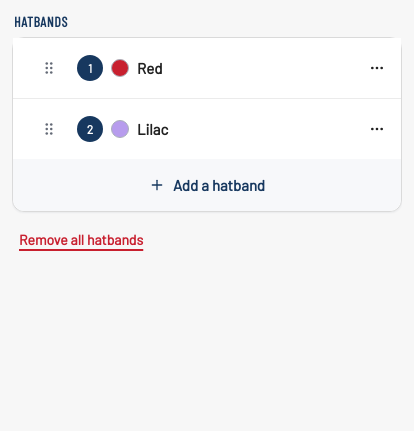
Scenario: HatbandEditor › changes a colour from the ⋯ menu: name and colour save as they are typed, and a custom colour keeps its name
This screenshot has width=414, height=431.
Step 1. Click the button named "More for Lilac" → (377, 129), box [369, 121, 385, 137]
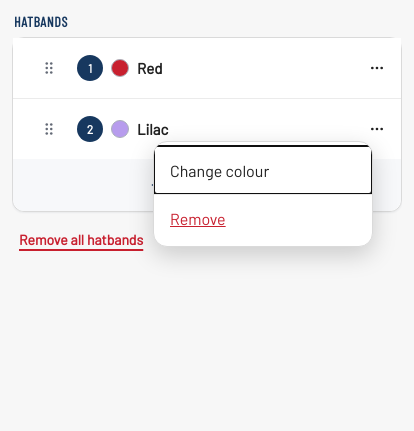
Step 2. Click the menu item "Change colour" → (263, 170), box [154, 146, 372, 194]
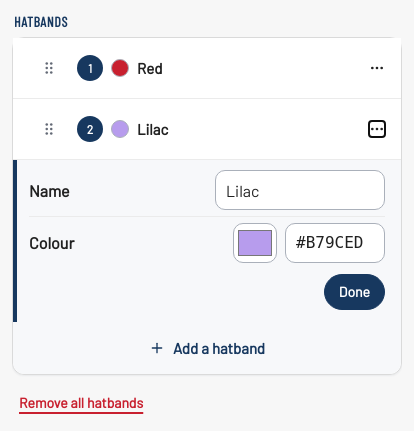
Check: the field named "Hatband name" holds "Lilac"
Check: the field named "Colour code" holds "#B79CED", box [285, 223, 385, 263]
Step 3. Type "s" into the field named "Hatband name" → (300, 190), box [215, 170, 385, 210]
Step 4. Replace the text in the field named "Colour code" with "#00FF00" → (335, 243), box [285, 223, 385, 263]
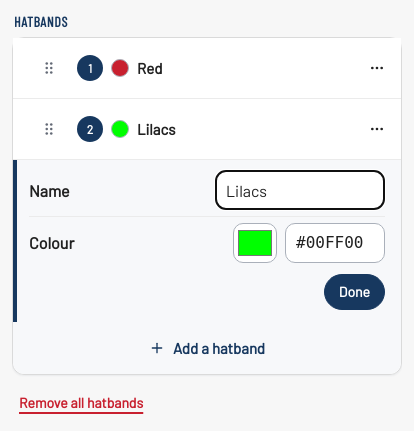
Step 5. Replace the text in the field named "Colour code" with "#00FF" → (335, 243), box [285, 223, 385, 263]
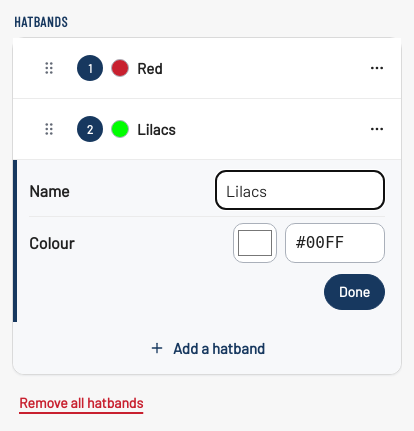
Step 6. Type "#112233" into the colour field labelled "Colour" → (255, 243), box [233, 223, 277, 263]
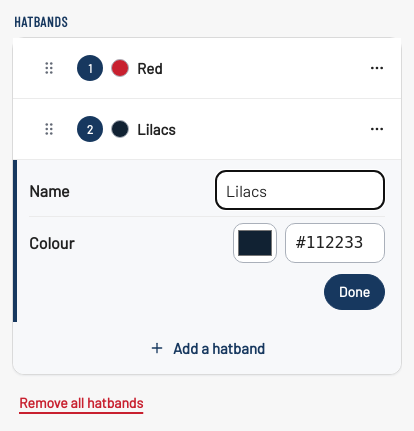
Step 7. Click the button "Done" → (354, 292), box [324, 274, 385, 310]
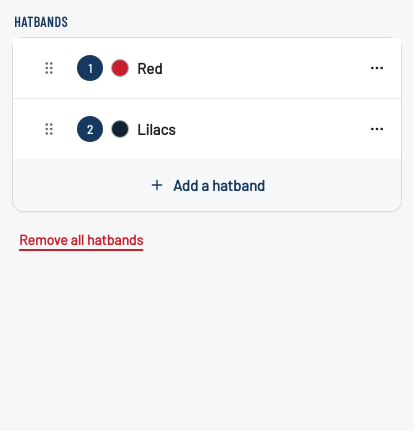
Check: the field labelled "Hatband name" is gone
